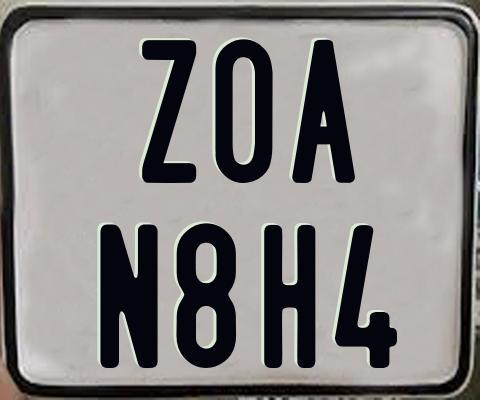0: (213, 36, 277, 180)
4: (333, 223, 397, 367)
8: (174, 223, 236, 368)
A: (290, 37, 353, 180)
H: (262, 224, 318, 373)
N: (100, 221, 164, 366)
Z: (140, 39, 194, 185)
